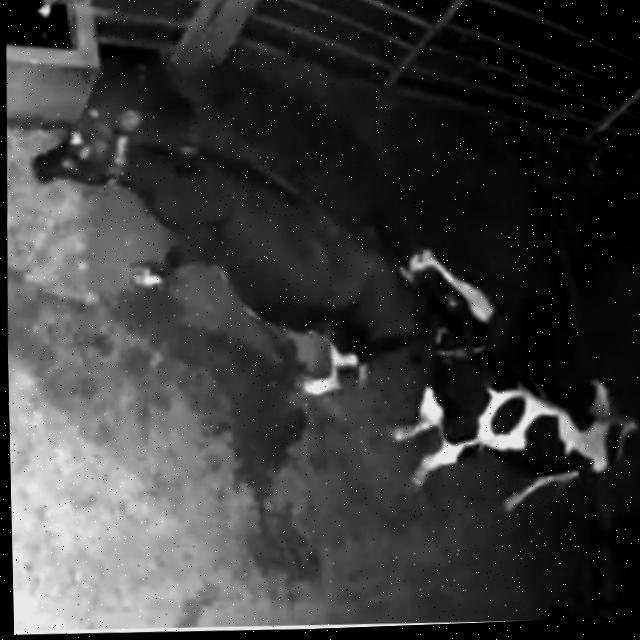propping: (355, 210, 515, 397)
